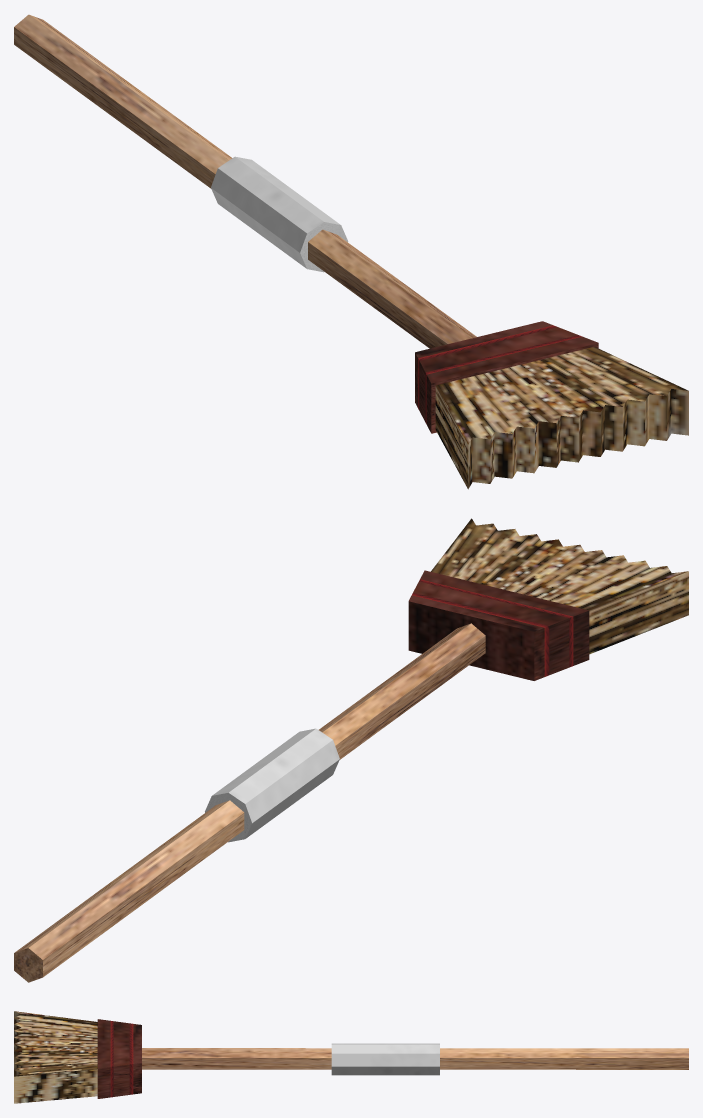
File: PDH_broom_fixed.fbx
The picture shows the model from 3 angles, top to bottom: view 1: azimuth 30°, elevation 25°; view 2: azimuth 150°, elevation 25°; view 3: azimuth 270°, elevation 25°; orthographic projection. The views are drawn at different scales.
Parts seen in each view (by area): view 1: broom_head.003, broom_head.002, Cylinder; view 2: broom_head.003, broom_head.002, Cylinder; view 3: broom_head.003, broom_head.002, Cylinder.
Boxes of the visible parts, x1,y1,x2,y2 form: broom_head.003: [415, 321, 688, 489]; broom_head.002: [14, 14, 476, 348]; Cylinder: [211, 156, 348, 272]; broom_head.003: [408, 518, 688, 680]; broom_head.002: [14, 623, 485, 982]; Cylinder: [205, 728, 339, 842]; broom_head.003: [14, 1011, 141, 1103]; broom_head.002: [142, 1048, 688, 1069]; Cylinder: [331, 1043, 439, 1075].
Size of the model in its own units: 357 by 1556 by 78.01.
